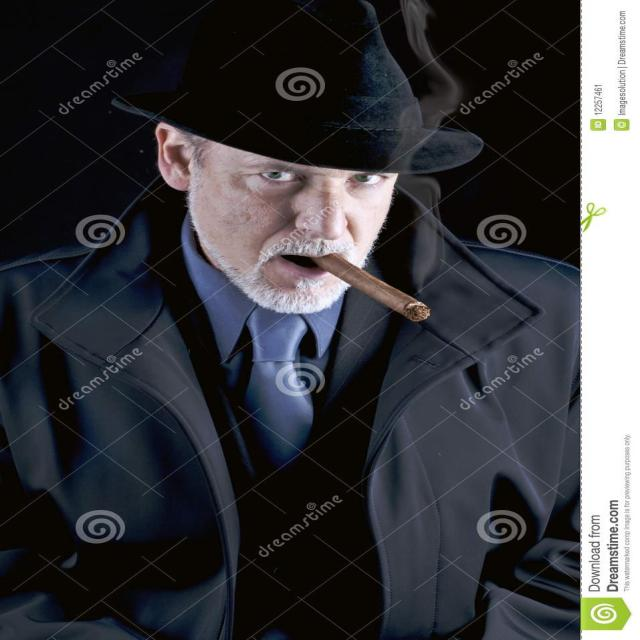cigarette: (299, 249, 453, 332)
